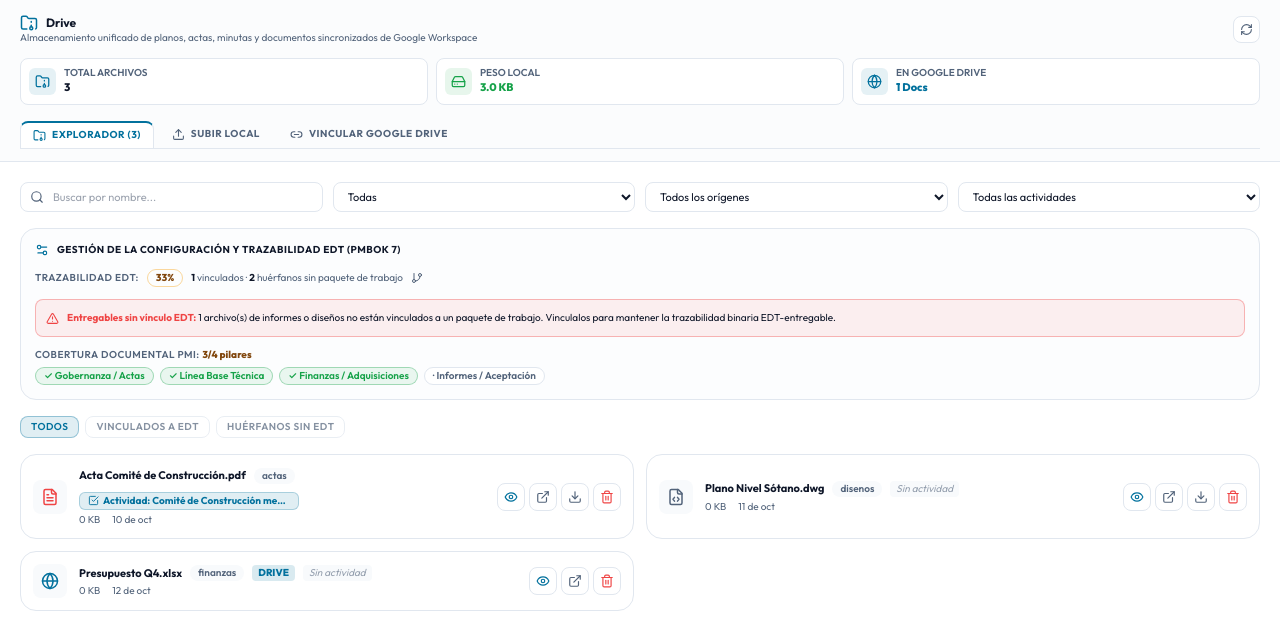
Test: ProjectDriveDrawer — Gestión de la Configuración y Trazabilidad EDT PMI › filtra la lista visual por trazabilidad EDT con drive-wbs-traceability-filter
The width and height of the screenshot is (1280, 628).
expect the element with test id "drive-wbs-traceability-filter" is shown: met, box 20,416 -> 346,438
expect the text "Acta Comité de Construcción.pdf" is shown: met, box 79,467 -> 246,484
Huérfanos sin EDT: oculta el acta vinculada
Step 1. Click the button "Huérfanos sin EDT" → (281, 427), box 216,416 -> 346,438
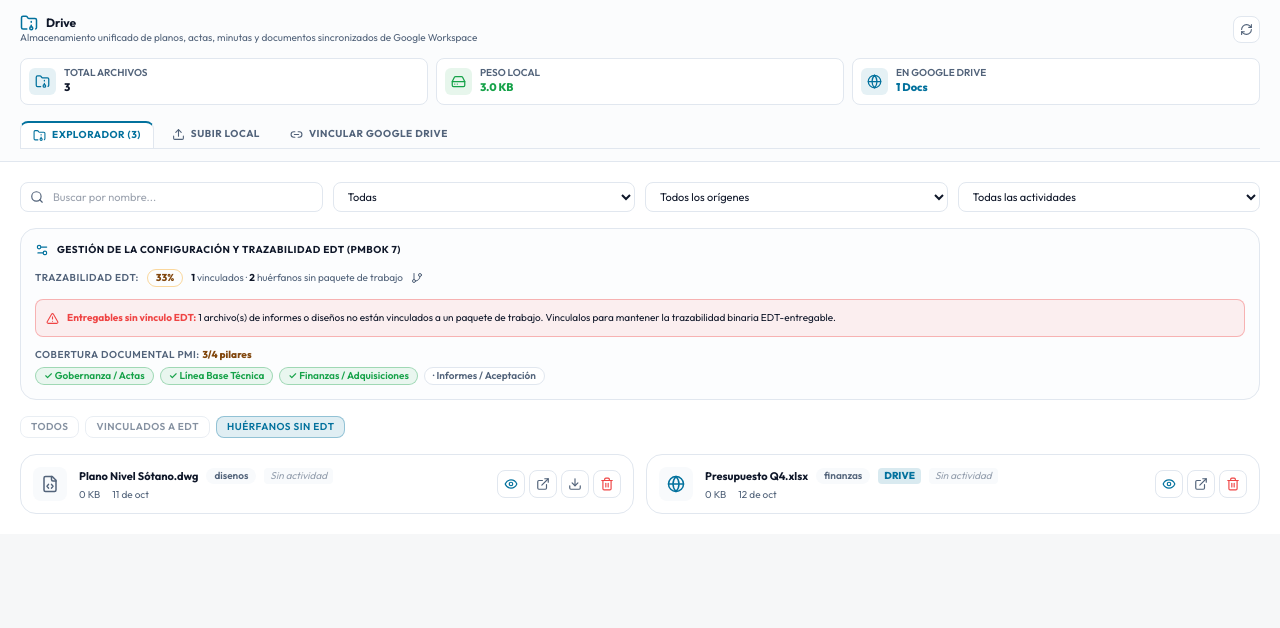
expect the text "Plano Nivel Sótano.dwg" is shown: met, box 79,468 -> 198,484
expect the text "Acta Comité de Construcción.pdf" is gone: met
Vinculados a EDT: muestra solo el acta con paquete de trabajo
Step 2. Click the button "Vinculados a EDT" → (148, 427), box 85,416 -> 210,438
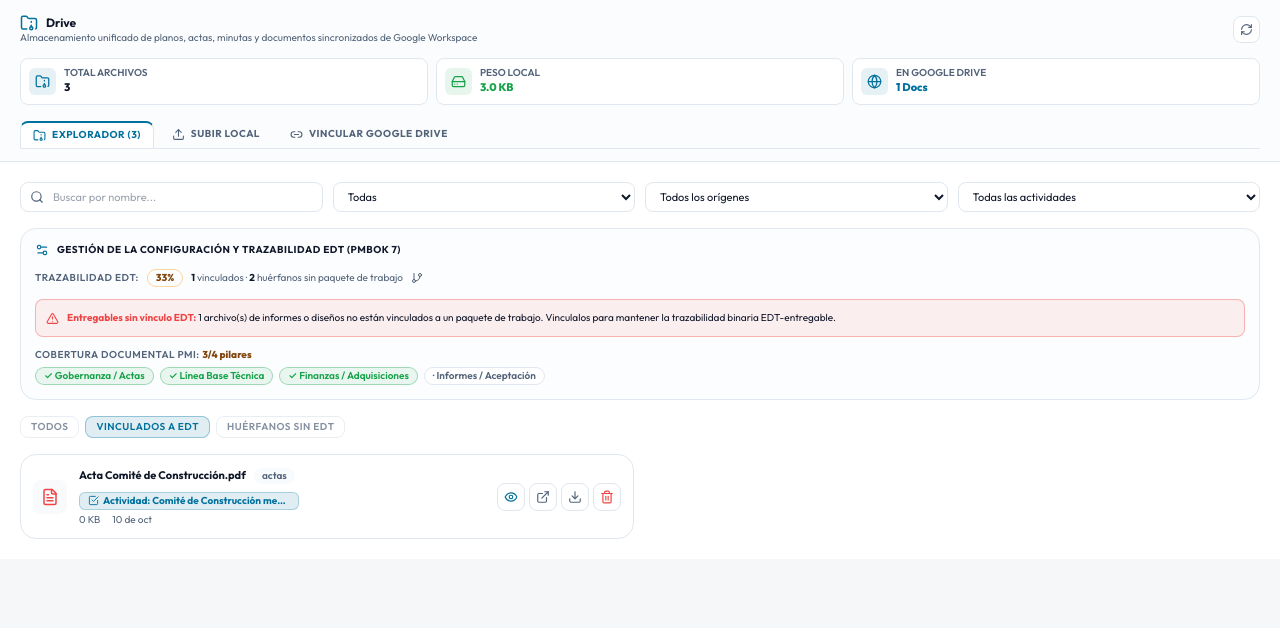
expect the text "Acta Comité de Construcción.pdf" is shown: met, box 79,467 -> 246,484
expect the text "Plano Nivel Sótano.dwg" is gone: met
expect the text "Presupuesto Q4.xlsx" is gone: met
Step 3. Click the button "Todos" → (50, 427), box 20,416 -> 79,438
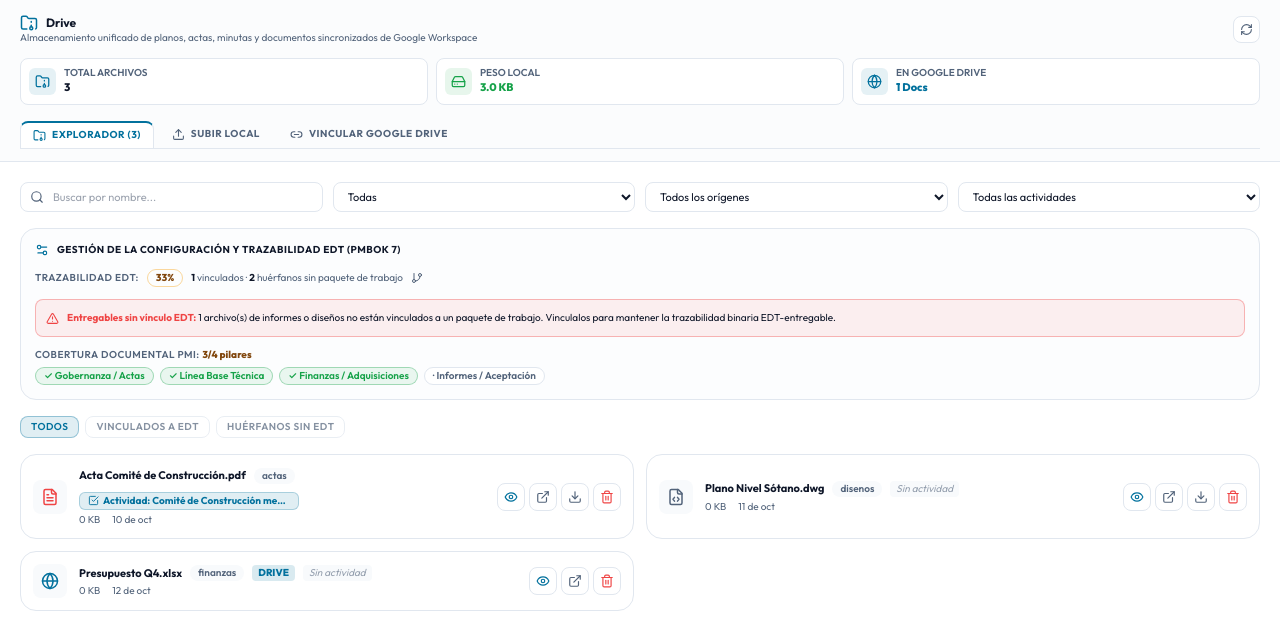
expect the text "Acta Comité de Construcción.pdf" is shown: met, box 79,467 -> 246,484
expect the text "Plano Nivel Sótano.dwg" is shown: met, box 705,480 -> 824,497
expect the text "Presupuesto Q4.xlsx" is shown: met, box 79,564 -> 182,581
